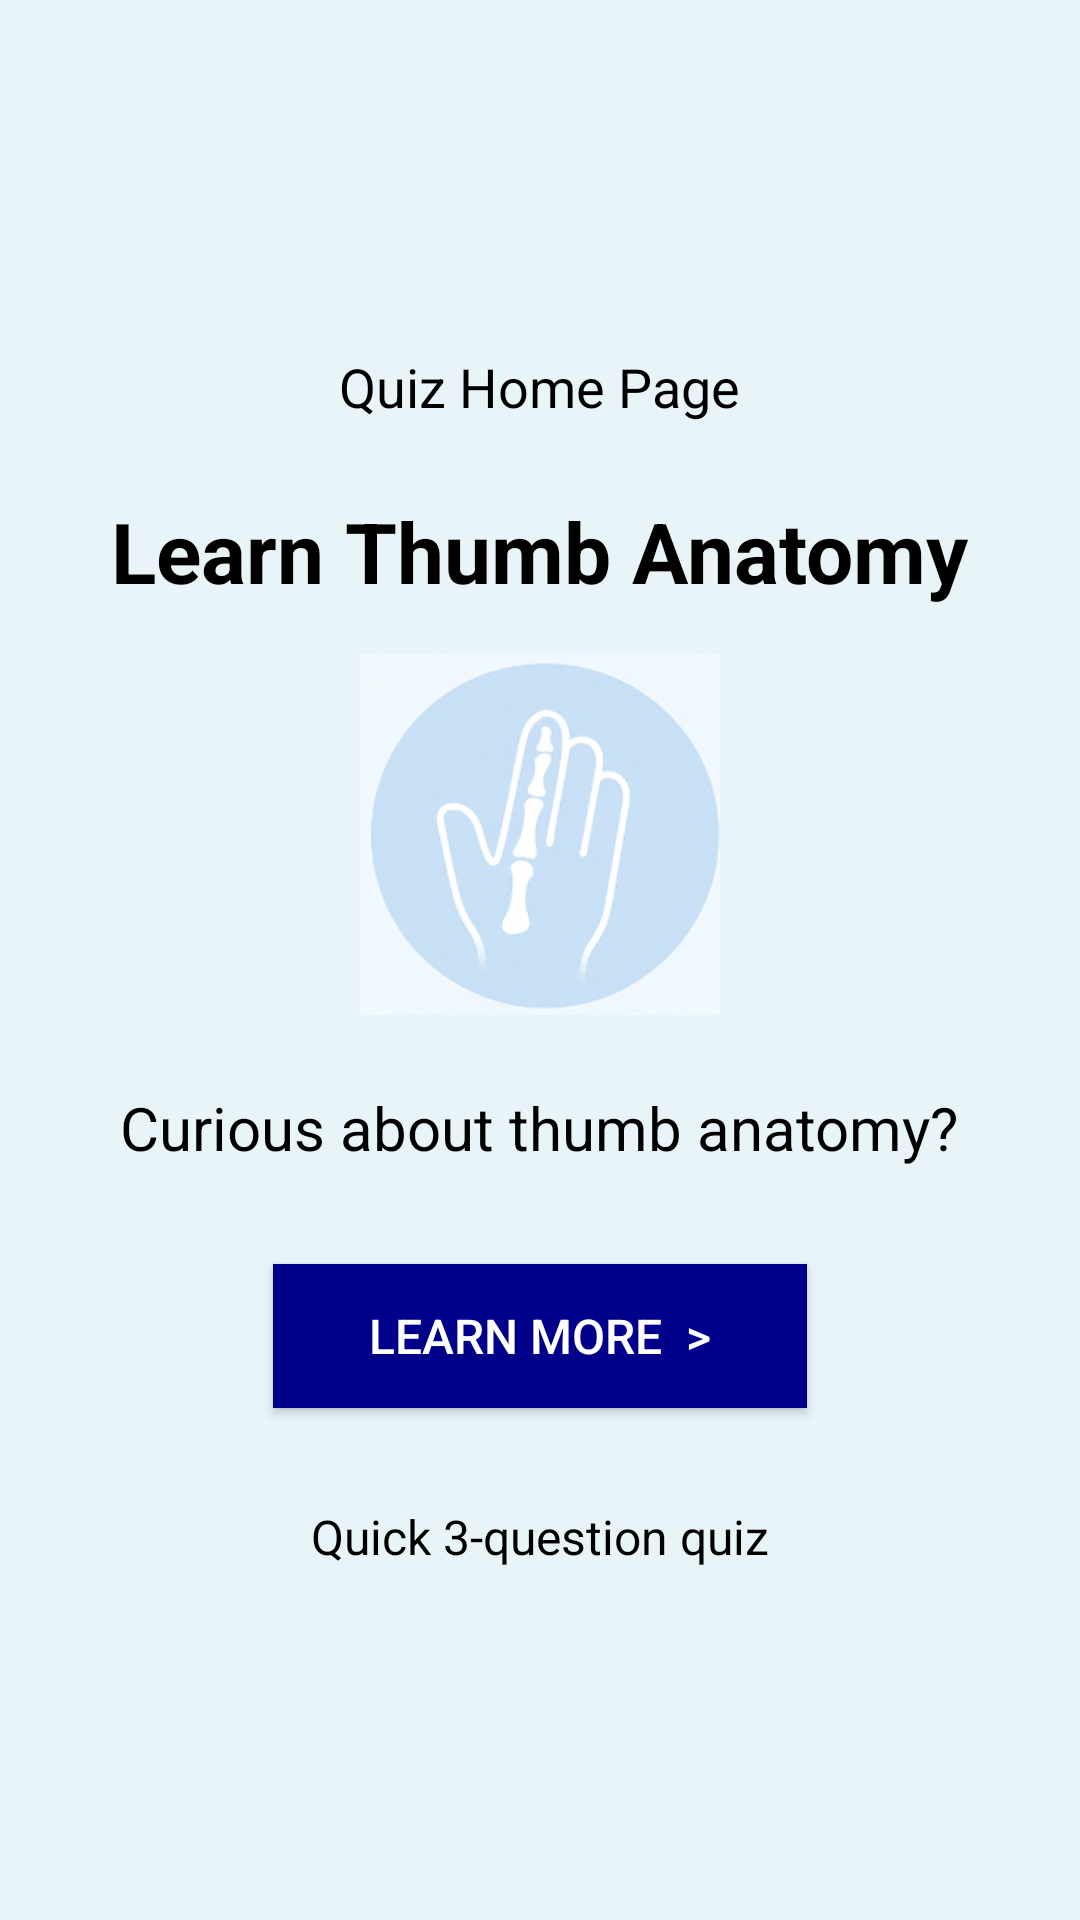

Named icons in this screenshot (1080×1920) and their centers, (x=x, y=y):
bone hand: (x=545, y=835)
